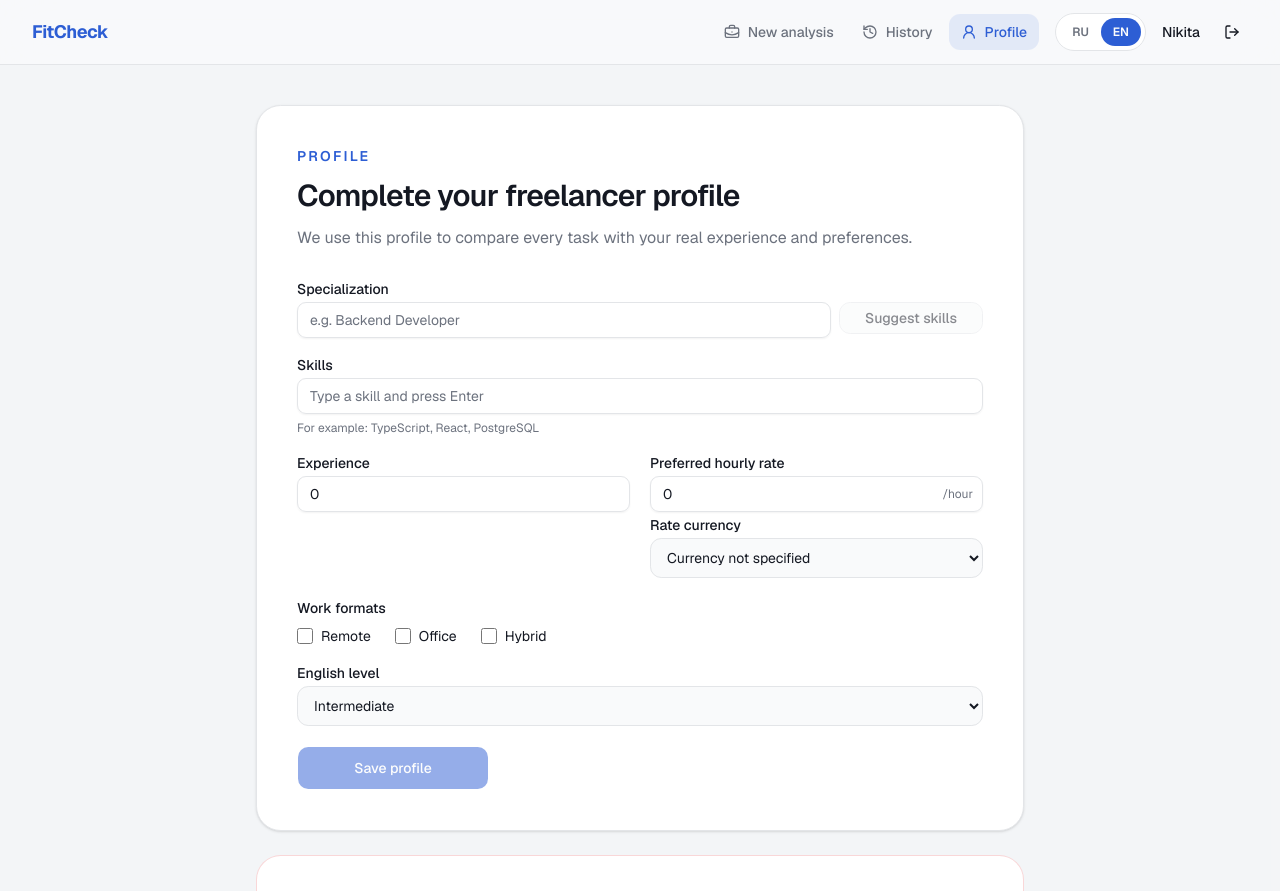
Test: FitCheck profile skill suggestions › shows the localized profile message for suggestions_rate_limit
In the field labelled "Specialization": (564, 320) [297,302,831,338], type "Backend Developer"
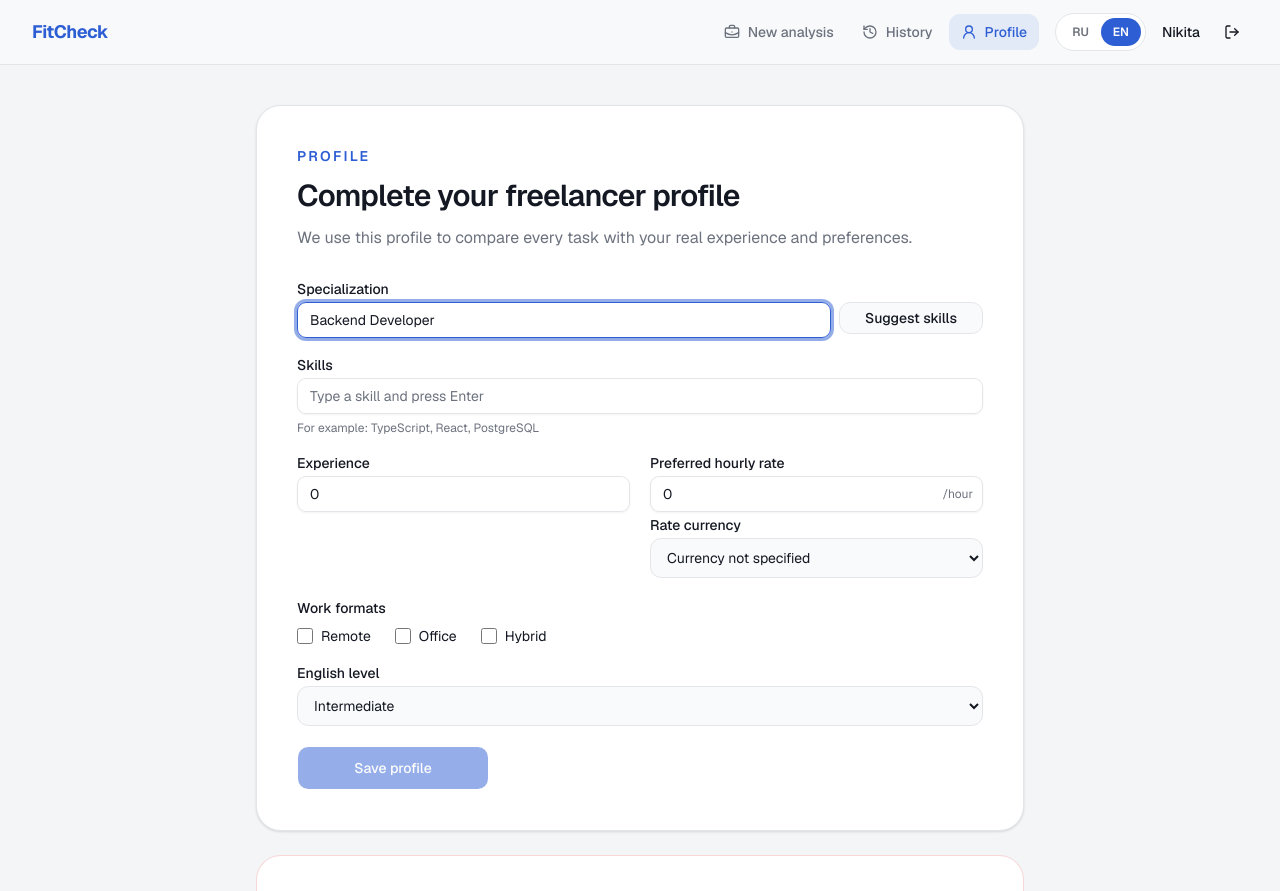
Click the button "Suggest skills": click(911, 318) [839,302,983,334]
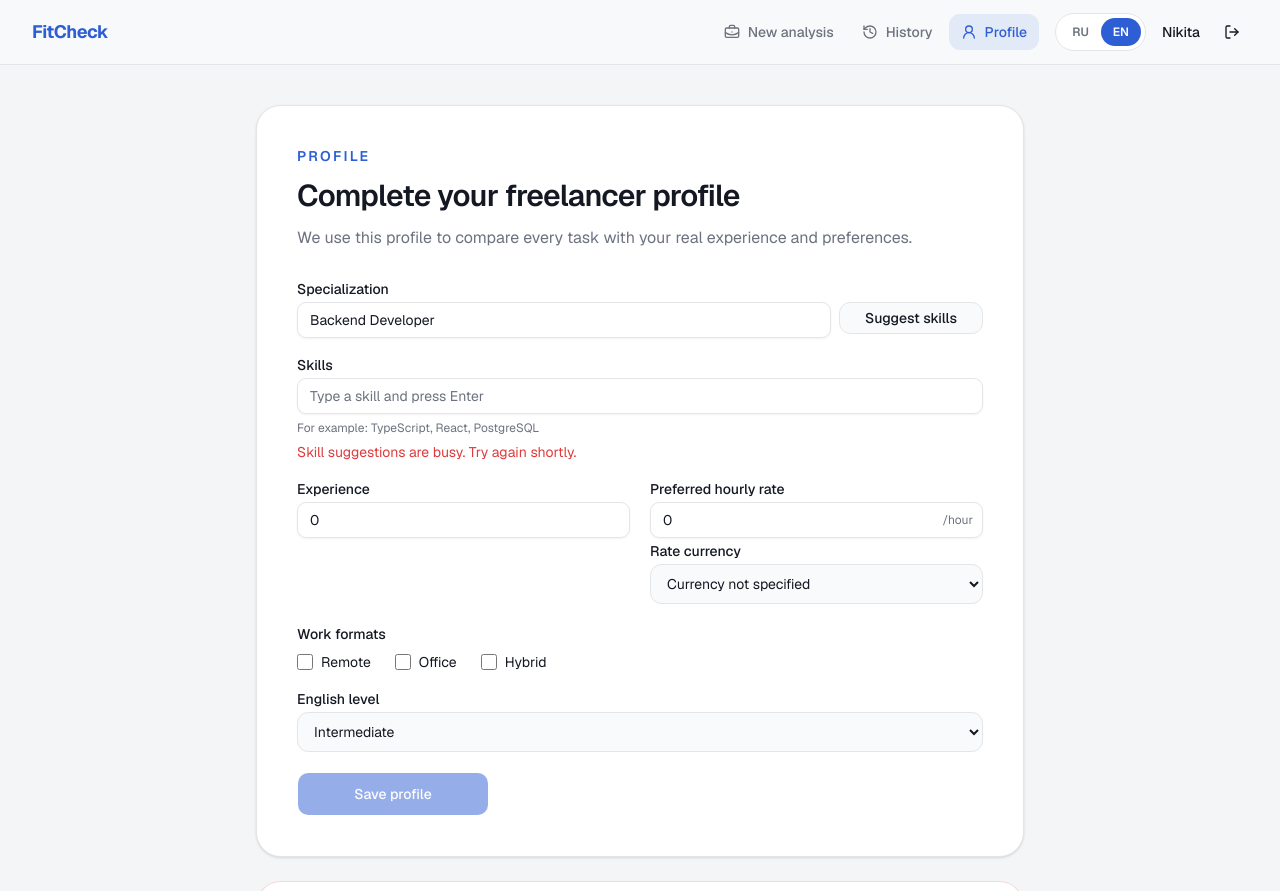
Expected: the message reads "Skill suggestions are busy. Try again shortly.", [297,443,576,461]
